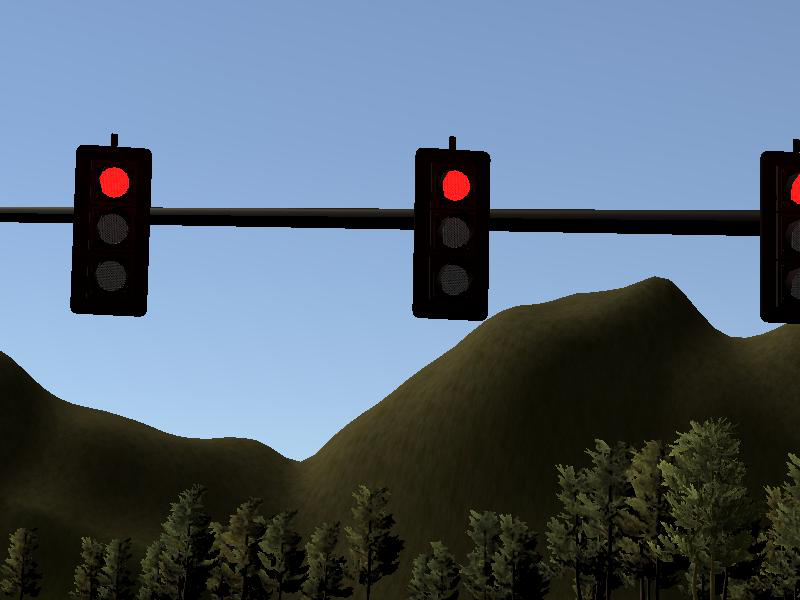red: (414, 144, 489, 319), (75, 144, 148, 316), (759, 149, 800, 324)
